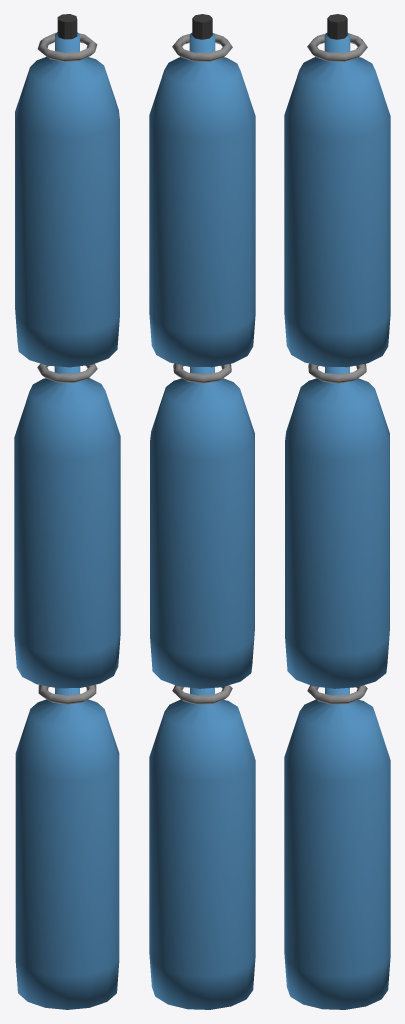
File: Fossil_NaturalGas.fbx
3 renders of one model, left to right at view 1: azimuth 90°, elevation 25°; view 2: azimuth 150°, elevation 25°; view 3: azimuth 330°, elevation 25°, orthographic.
Visible parts, largest first — view 1: Fossil_NaturalGas__Stack, Fossil_NaturalGas; view 2: Fossil_NaturalGas__Stack, Fossil_NaturalGas; view 3: Fossil_NaturalGas__Stack, Fossil_NaturalGas.
Boxes of the visible parts, x1,y1,x2,y2 form: Fossil_NaturalGas__Stack: [14, 14, 120, 688]; Fossil_NaturalGas: [15, 684, 119, 1009]; Fossil_NaturalGas__Stack: [149, 14, 255, 688]; Fossil_NaturalGas: [149, 685, 255, 1009]; Fossil_NaturalGas__Stack: [284, 14, 390, 688]; Fossil_NaturalGas: [284, 685, 390, 1009].
Size of the model in its own units: 0.084 by 0.8436 by 0.084.
